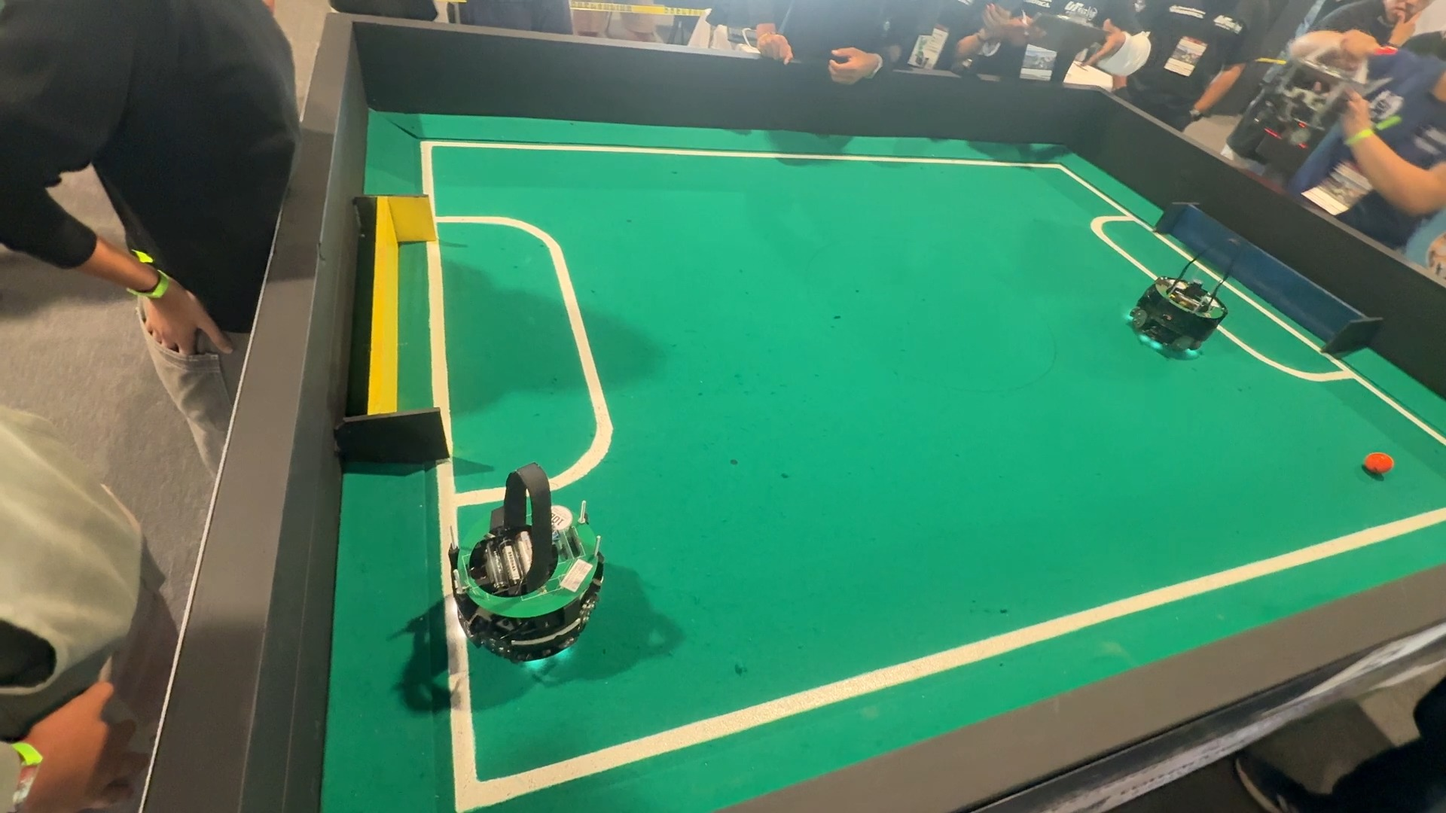Robot: (418, 477, 638, 692), (1103, 253, 1259, 372)
pelota: (1360, 451, 1395, 479)
